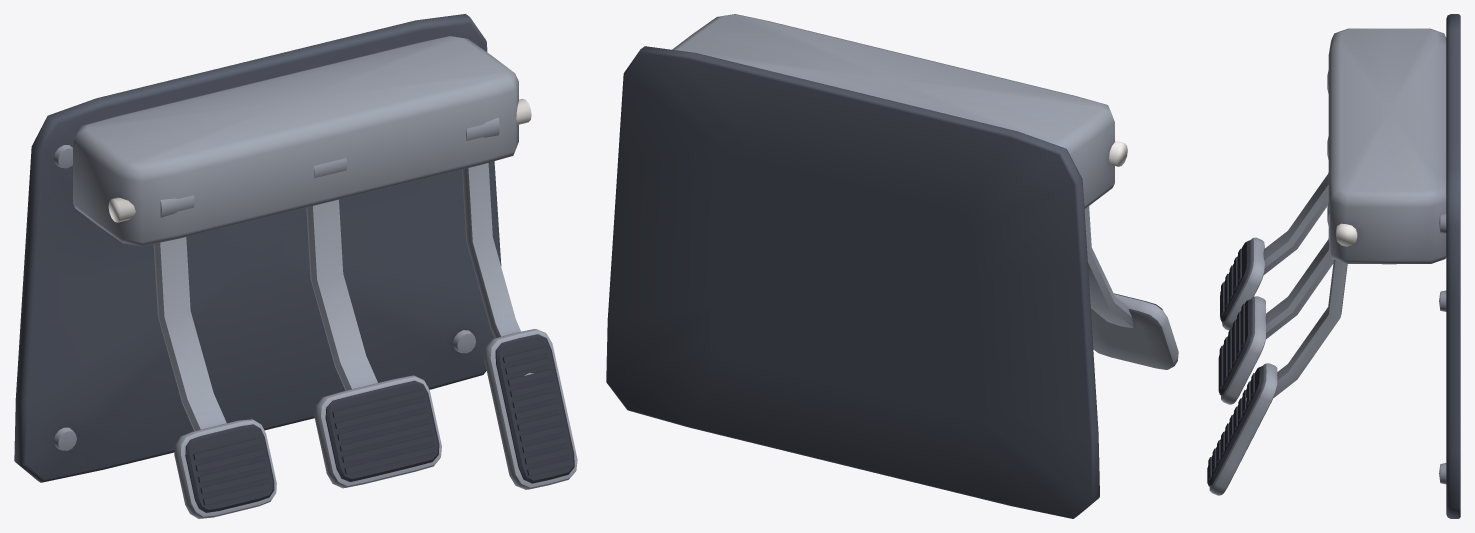
File: car-pedals.glb
The picture shows the model from 3 angles, left to right: view 1: azimuth 30°, elevation 25°; view 2: azimuth 150°, elevation 25°; view 3: azimuth 270°, elevation 25°; orthographic projection. The views are drawn at different scales.
Parts seen in each view (by area): view 1: car-pedals_body, car-pedals_pedal_m, car-pedals_pedal_r, car-pedals_pedal_l; view 2: car-pedals_body, car-pedals_pedal_l; view 3: car-pedals_body, car-pedals_pedal_r, car-pedals_pedal_m, car-pedals_pedal_l.
Part boxes in pixels (box(x1,y1,x2,y2)): car-pedals_body: box(14, 14, 531, 482); car-pedals_pedal_m: box(306, 158, 441, 488); car-pedals_pedal_r: box(462, 117, 577, 489); car-pedals_pedal_l: box(153, 195, 276, 518); car-pedals_body: box(606, 14, 1127, 518); car-pedals_pedal_l: box(1084, 206, 1178, 369); car-pedals_body: box(1328, 14, 1460, 518); car-pedals_pedal_r: box(1207, 202, 1347, 495); car-pedals_pedal_m: box(1218, 136, 1333, 404); car-pedals_pedal_l: box(1220, 70, 1328, 330).
Size of the model in its own units: 0.4129 by 0.3 by 0.2111.
Materials: 4 (4 with a texture image).
